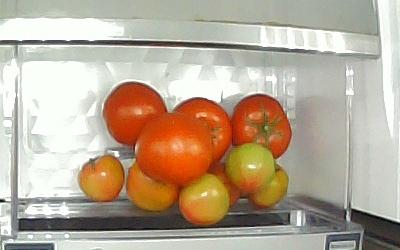tomato: (135, 109, 213, 186), (102, 81, 169, 146), (230, 93, 292, 161), (173, 97, 232, 163), (178, 173, 229, 227), (127, 161, 179, 212), (226, 142, 273, 196), (77, 154, 124, 203), (247, 161, 289, 211), (209, 162, 240, 208)
